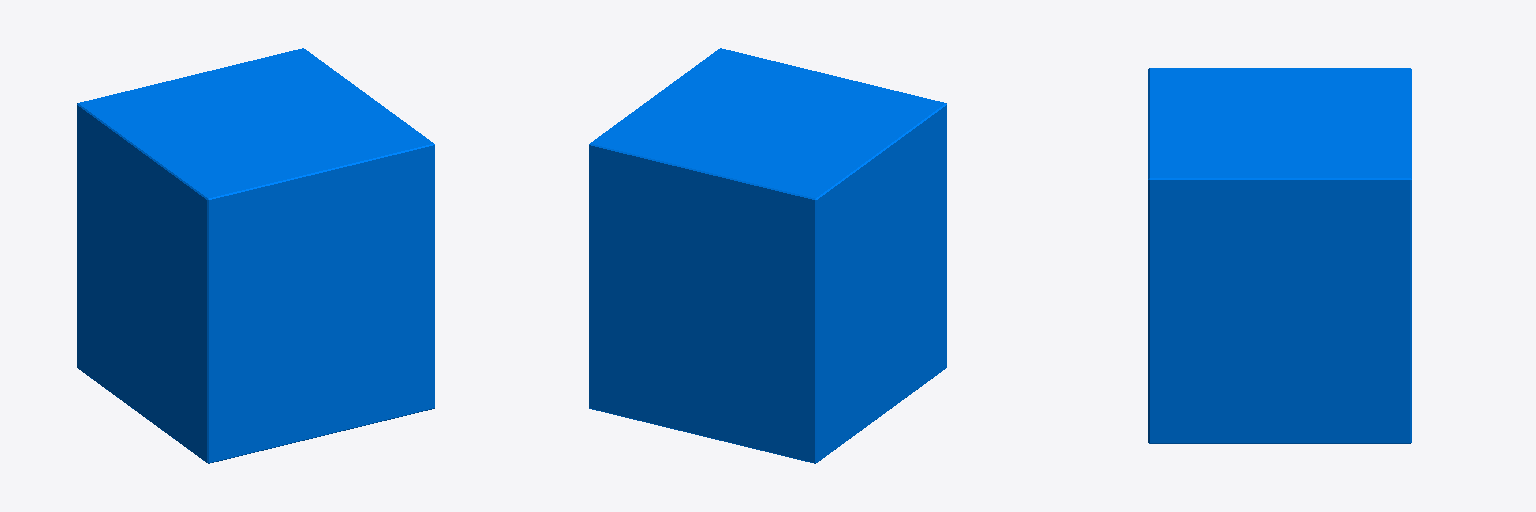
The picture shows the model from 3 angles: view 1: azimuth 30°, elevation 25°; view 2: azimuth 150°, elevation 25°; view 3: azimuth 270°, elevation 25°; orthographic projection.
Parts seen in each view (by area): view 1: pCube13; view 2: pCube13; view 3: pCube13.
Part boxes in pixels (left/top/right/bottom): pCube13: left=77, top=48, right=434, bottom=463; pCube13: left=589, top=48, right=946, bottom=463; pCube13: left=1148, top=68, right=1411, bottom=443.
Bounding box in the file's own units: 0.675 × 0.75 × 0.675.
Materials: 1 (1 with a texture image).